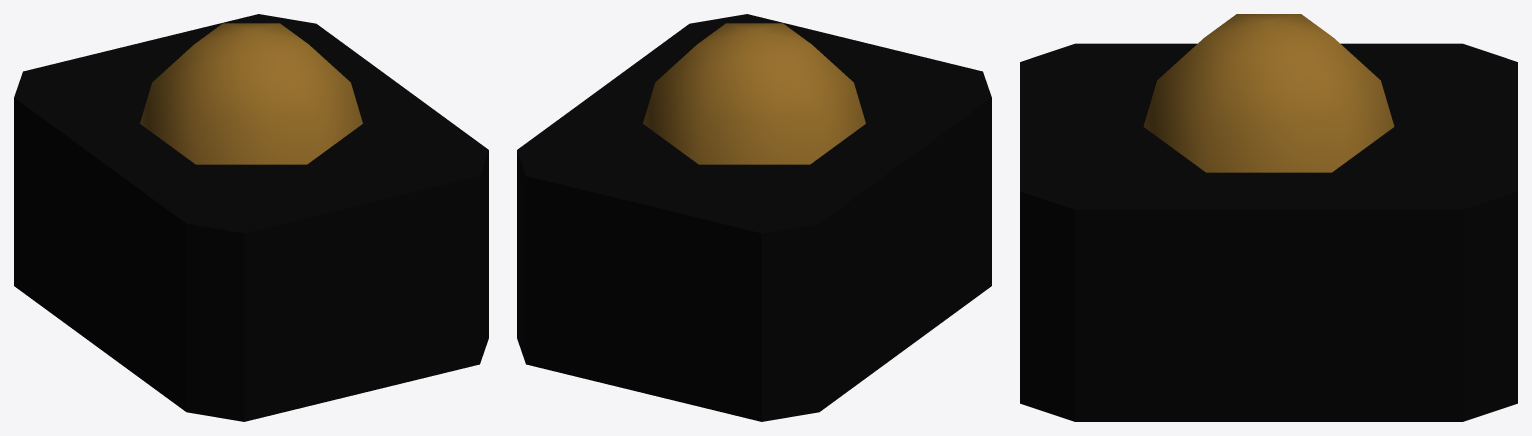
Rendered from Card.glb.
3 views of the same model, side by side, from view 1: azimuth 30°, elevation 25°; view 2: azimuth 150°, elevation 25°; view 3: azimuth 270°, elevation 25° (orthographic). The views are drawn at different scales.
Visible parts, largest first — view 1: Cube, Sphere; view 2: Cube, Sphere; view 3: Cube, Sphere.
Part boxes in pixels (bbox=[...]): Cube: bbox=[14, 14, 488, 421]; Sphere: bbox=[140, 23, 362, 164]; Cube: bbox=[517, 14, 991, 421]; Sphere: bbox=[643, 23, 865, 164]; Cube: bbox=[1020, 43, 1517, 421]; Sphere: bbox=[1143, 14, 1394, 172].
Bounding box in the file's own units: 0.2749 × 0.2447 × 0.3482.
